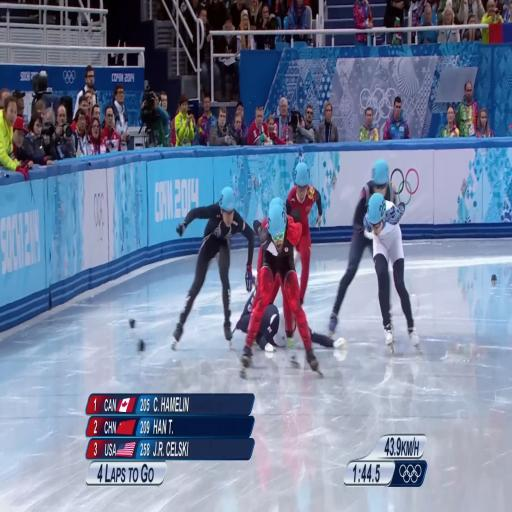Skater: (241, 199, 321, 377), (173, 187, 254, 349), (329, 160, 398, 336), (364, 193, 419, 353), (286, 162, 322, 303), (235, 276, 257, 333)
